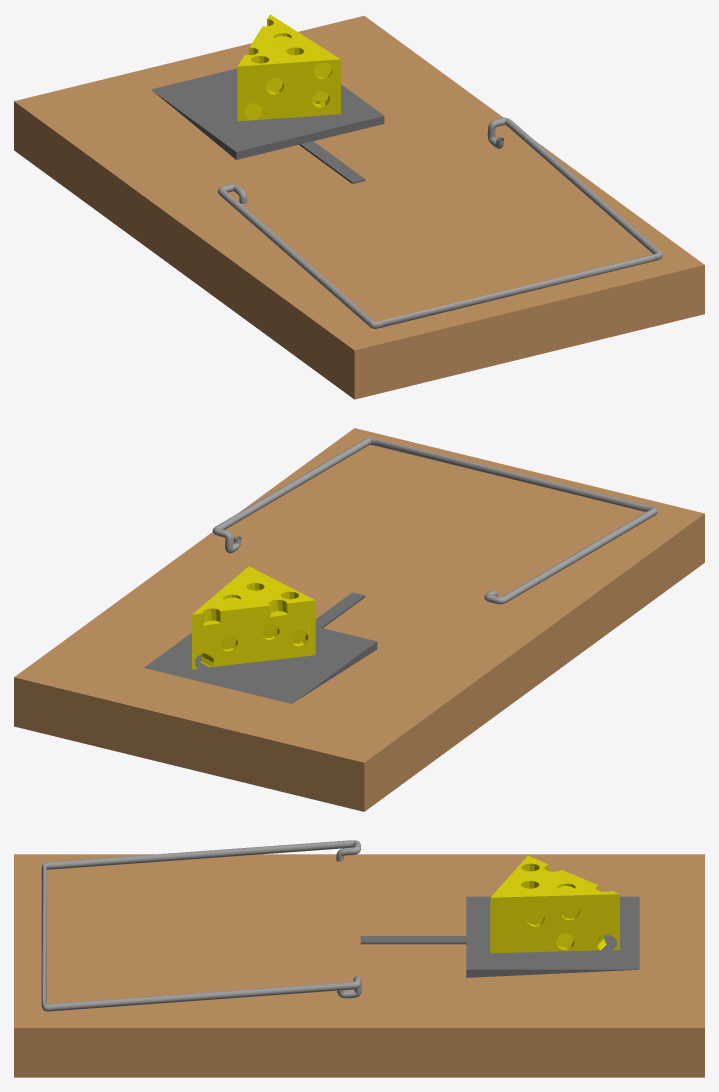
The model's file is RatTrapTest.glb.
The picture shows the model from 3 angles, top to bottom: view 1: azimuth 30°, elevation 25°; view 2: azimuth 150°, elevation 25°; view 3: azimuth 270°, elevation 25°; orthographic projection.
Parts seen in each view (by area): view 1: Cube, Cube.001, Cylinder, Circle.003, Cube.002; view 2: Cube, Cylinder, Cube.001, Circle.003, Cube.002; view 3: Cube, Cylinder, Cube.001, Circle.003, Cube.002.
Boxes of the visible parts, left/top/right/bottom form: Cube: left=14, top=15, right=704, bottom=399; Cube.001: left=151, top=68, right=384, bottom=159; Cylinder: left=237, top=14, right=340, bottom=121; Circle.003: left=218, top=117, right=662, bottom=328; Cube.002: left=299, top=141, right=365, bottom=183; Cube: left=14, top=428, right=704, bottom=811; Cylinder: left=192, top=566, right=315, bottom=669; Cube.001: left=144, top=626, right=377, bottom=703; Circle.003: left=212, top=437, right=657, bottom=604; Cube.002: left=315, top=592, right=365, bottom=627; Cube: left=14, top=854, right=704, bottom=1077; Cylinder: left=490, top=856, right=619, bottom=953; Cube.001: left=466, top=896, right=639, bottom=977; Circle.003: left=41, top=840, right=361, bottom=1011; Cube.002: left=360, top=936, right=466, bottom=944.
Size of what is drawn, in the model's own units: 3.25 by 1.01 by 5.47.
